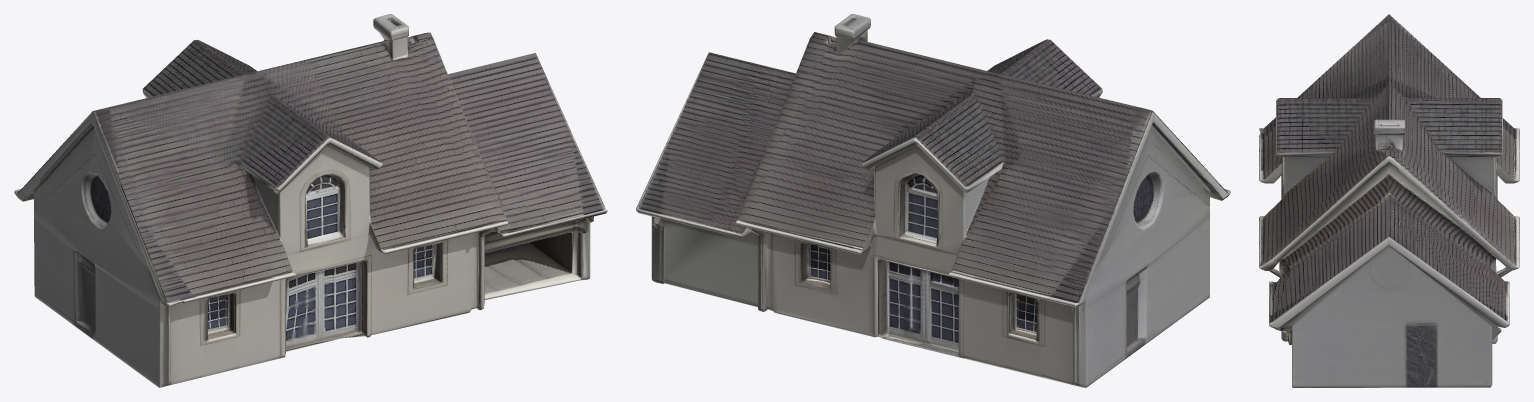
Rendered from Tan_house_0621060147_texture.glb.
3 views of the same model, side by side, from view 1: azimuth 30°, elevation 25°; view 2: azimuth 150°, elevation 25°; view 3: azimuth 270°, elevation 25° (orthographic). The views are drawn at different scales.
Visible parts, largest first — view 1: Mesh_0.002; view 2: Mesh_0.002; view 3: Mesh_0.002.
Part boxes in pixels (x1=…): Mesh_0.002: x1=14, y1=14, x2=607, y2=387; Mesh_0.002: x1=636, y1=14, x2=1230, y2=387; Mesh_0.002: x1=1259, y1=14, x2=1519, y2=387.
Size of the model in its own units: 14.27 by 7.62 by 8.65.
1 material, 1 textured.
